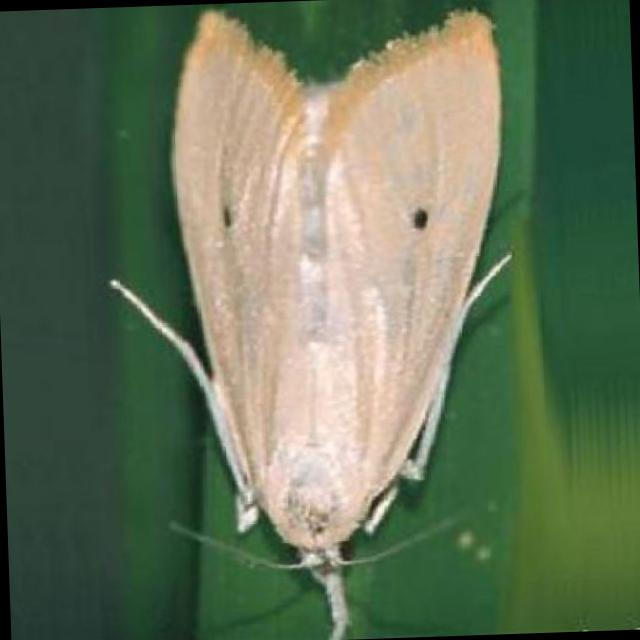stem-borer: (95, 0, 528, 640)
